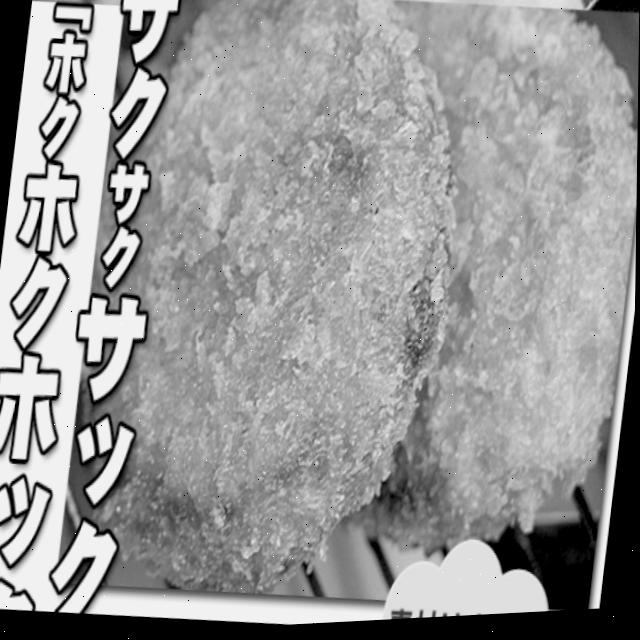炸货点心: (147, 0, 640, 558)
